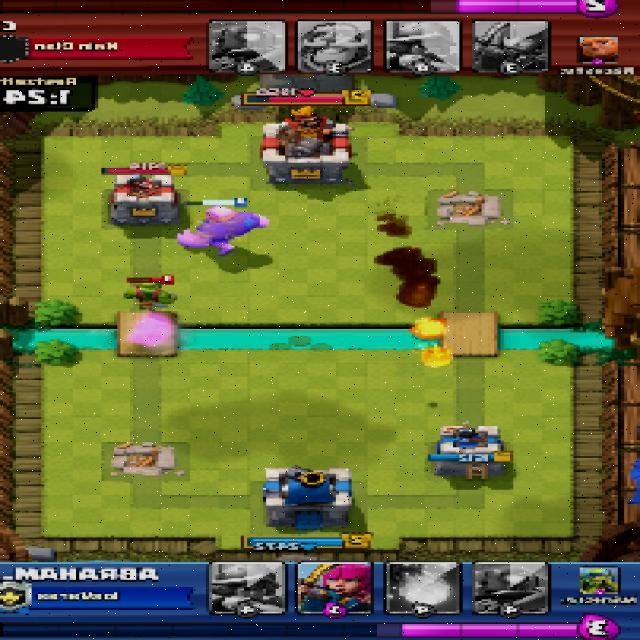Enemy-Fireball: (410, 316, 456, 369)
Player-Giant: (175, 203, 272, 254)
Player-GoblinCage: (120, 278, 182, 312)
